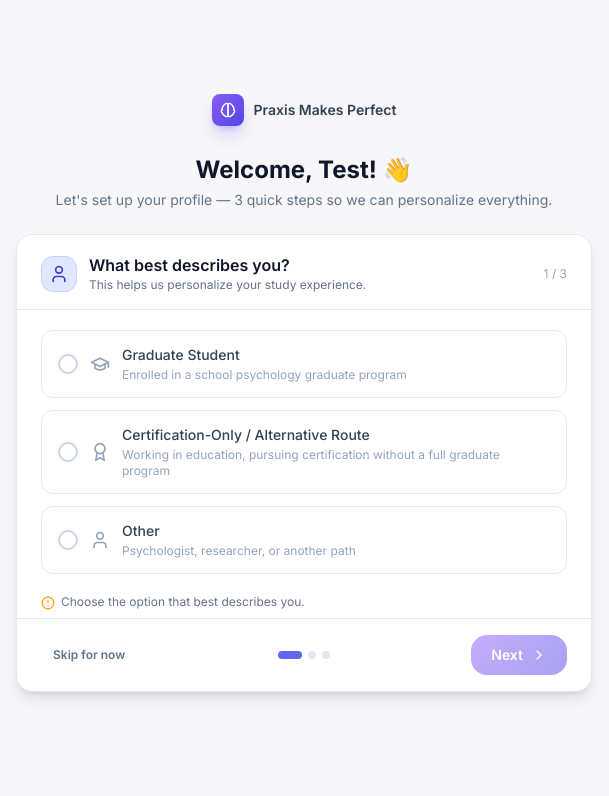
OnboardingFlow — step sequence › skips the pathway step for the "Other" role
The width and height of the screenshot is (609, 796).
Step 1. Click the text "Other" → (141,530), box left=122, top=522, right=160, bottom=539
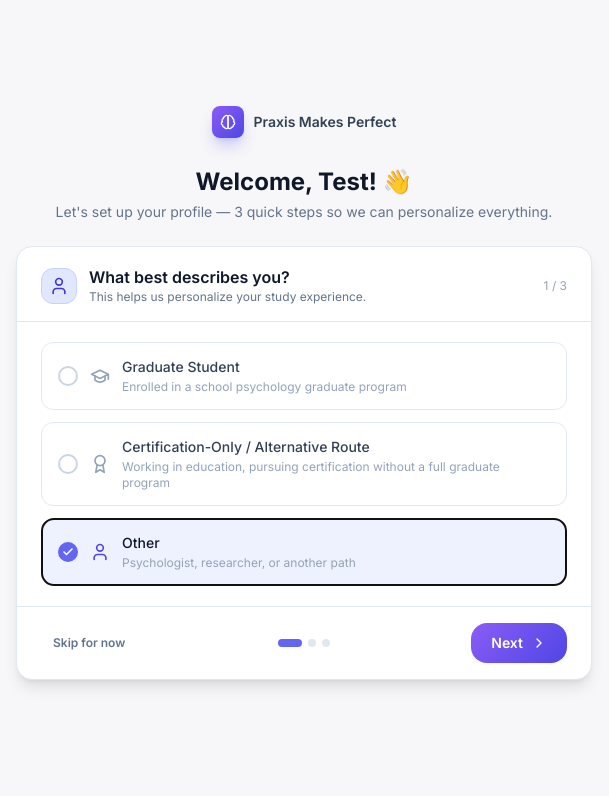
Expected: the text "1 / 3" is shown, left=544, top=278, right=567, bottom=294
Step 2. Click the button "Next" → (519,643), box left=471, top=623, right=567, bottom=663
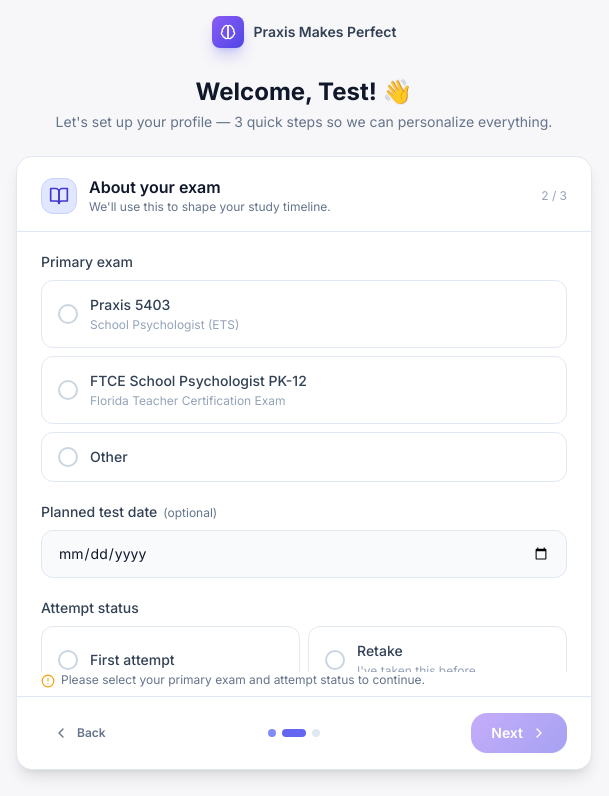
Expected: the heading "About your exam" is shown, left=89, top=177, right=221, bottom=197
